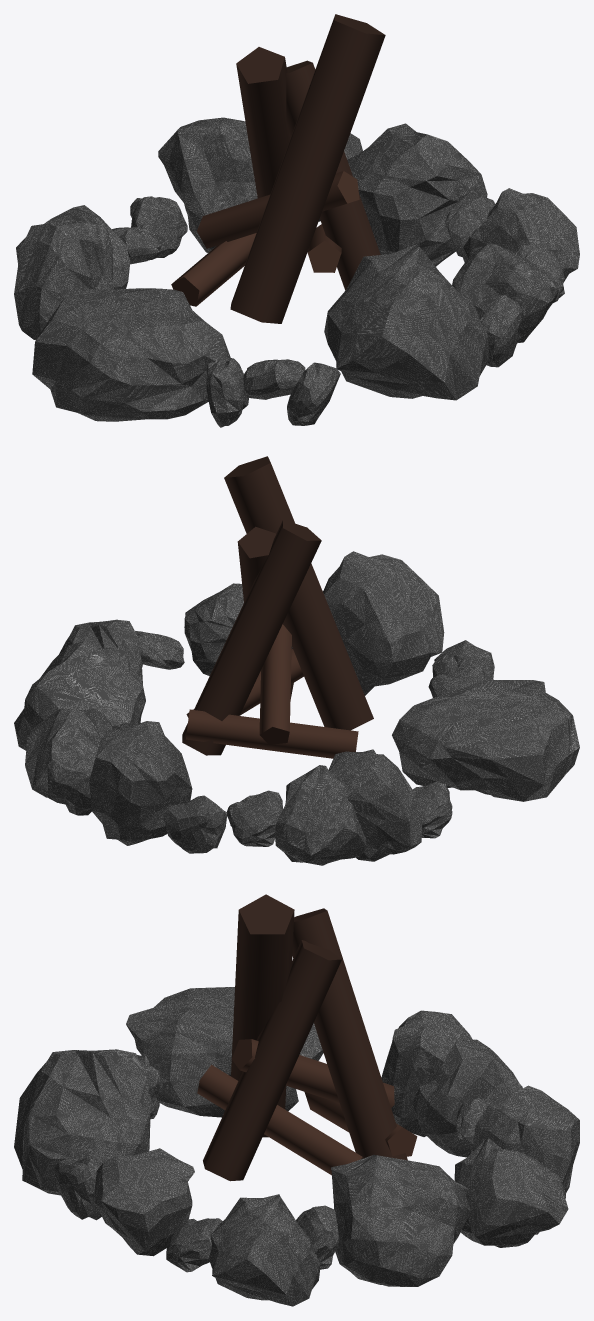
File: campfire.dae
3 renders of one model, top to bottom at view 1: azimuth 30°, elevation 25°; view 2: azimuth 150°, elevation 25°; view 3: azimuth 270°, elevation 25°, orthographic. The views are drawn at different scales.
Visible parts, largest first — view 1: skpWU4ttW (×16), group_6, group_4, group_1, group_2, group_3, group_5; view 2: skpWU4ttW (×15), group_6, group_4, group_3, group_2, group_1, group_5; view 3: skpWU4ttW (×14), group_1, group_4, group_6, group_5, group_2, group_3.
Boxes of the visible parts, box(x1,y1,x2,y2) form: skpWU4ttW (×16): box(14, 117, 579, 427); group_6: box(230, 14, 385, 323); group_4: box(236, 47, 290, 198); group_1: box(286, 60, 380, 290); group_2: box(197, 171, 359, 248); group_3: box(171, 233, 256, 306); group_5: box(307, 224, 341, 272); skpWU4ttW (×15): box(14, 551, 579, 865); group_6: box(224, 456, 373, 730); group_4: box(182, 520, 321, 755); group_3: box(186, 709, 358, 758); group_2: box(259, 624, 291, 744); group_1: box(237, 526, 293, 698); group_5: box(186, 649, 303, 717); skpWU4ttW (×14): box(14, 987, 579, 1306); group_1: box(203, 940, 341, 1181); group_4: box(292, 908, 407, 1160); group_6: box(231, 894, 294, 1137); group_5: box(197, 1064, 363, 1175); group_2: box(231, 1039, 394, 1107); group_3: box(304, 1092, 417, 1156).
Size of the model in its own units: 204 by 189 by 122.
